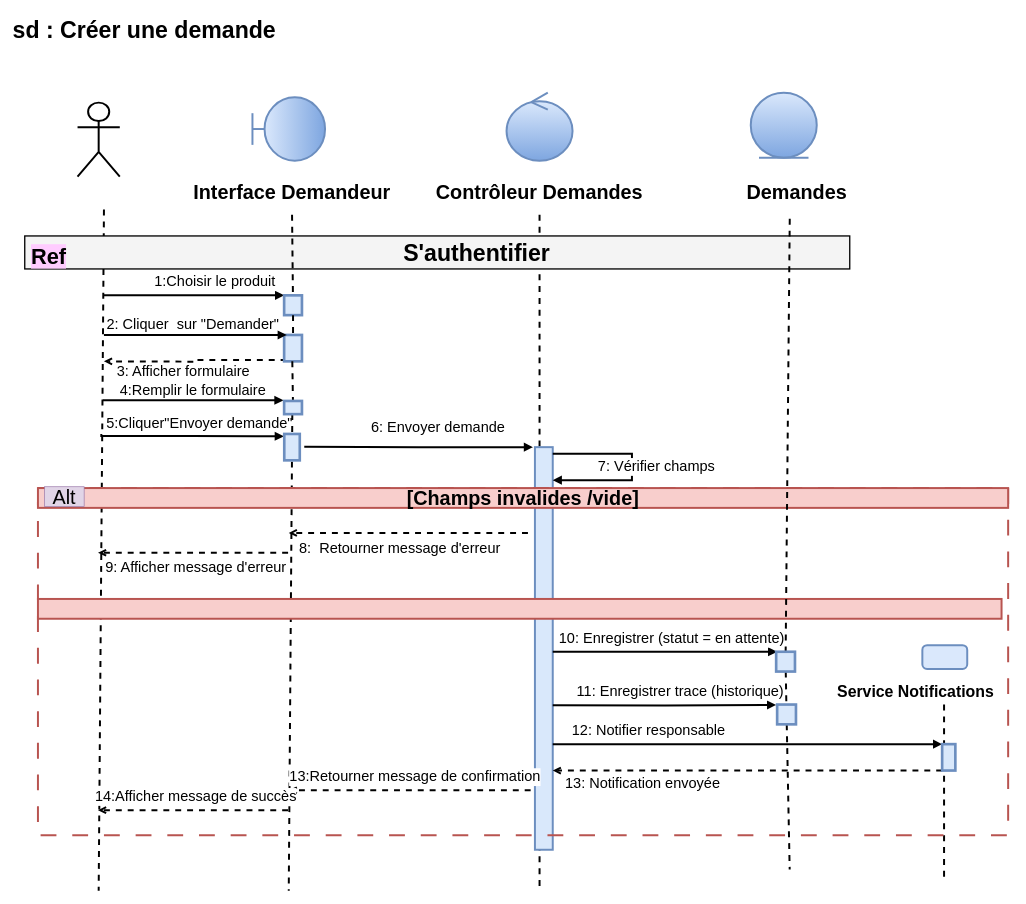
The diagram is 1026 pixels wide and 904 high, and some of its shapes have lost their labels. The shapes that lost their labels are listed below. From the top down, each one's centre as x and y in pixels, then its label:
point (98, 139): Magasinier
point (519, 608): [Succès ]
